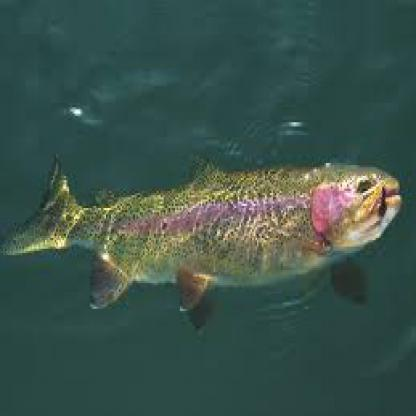fish: (3, 152, 404, 306)
